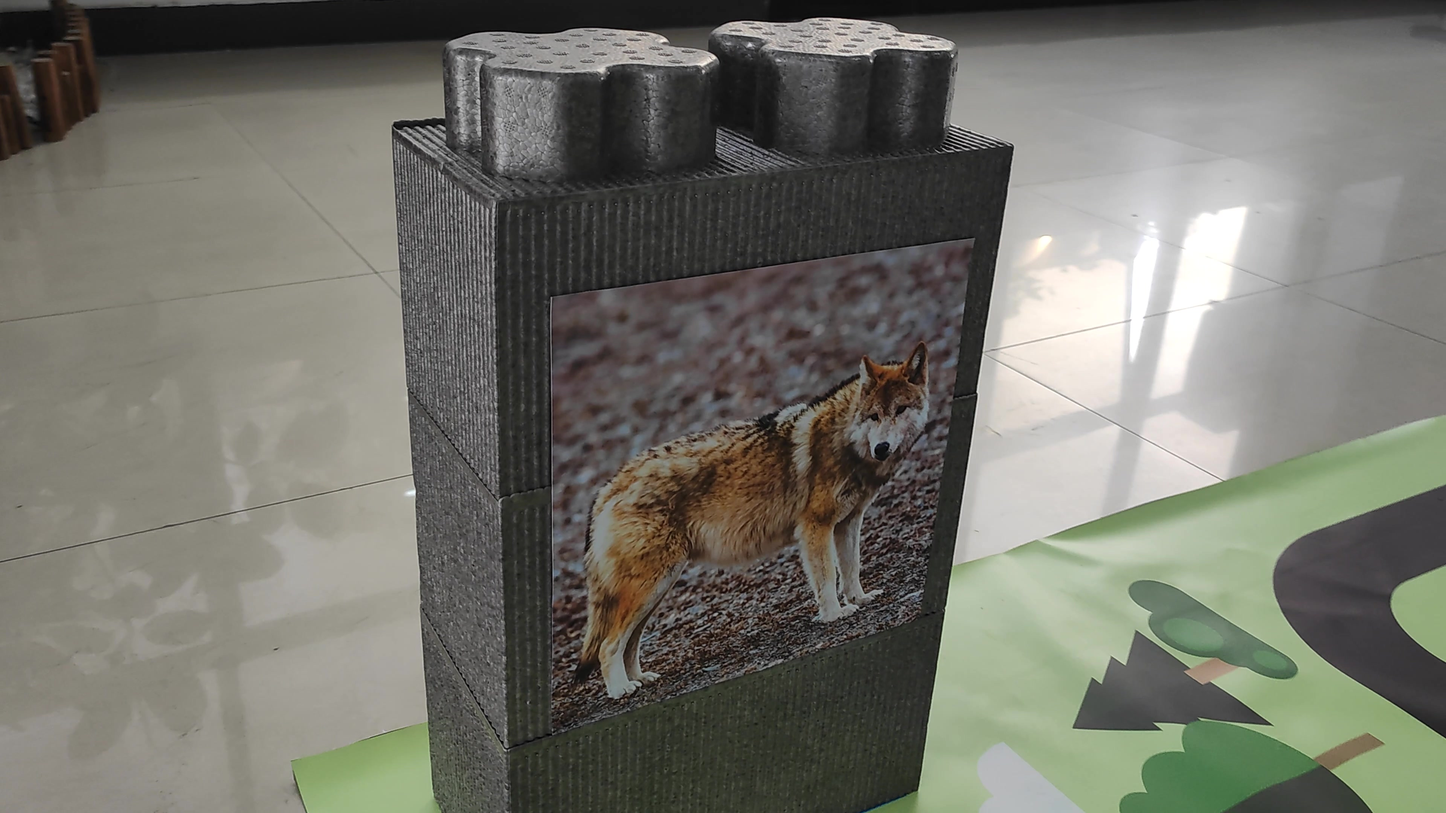wolf: (526, 298, 931, 671)
